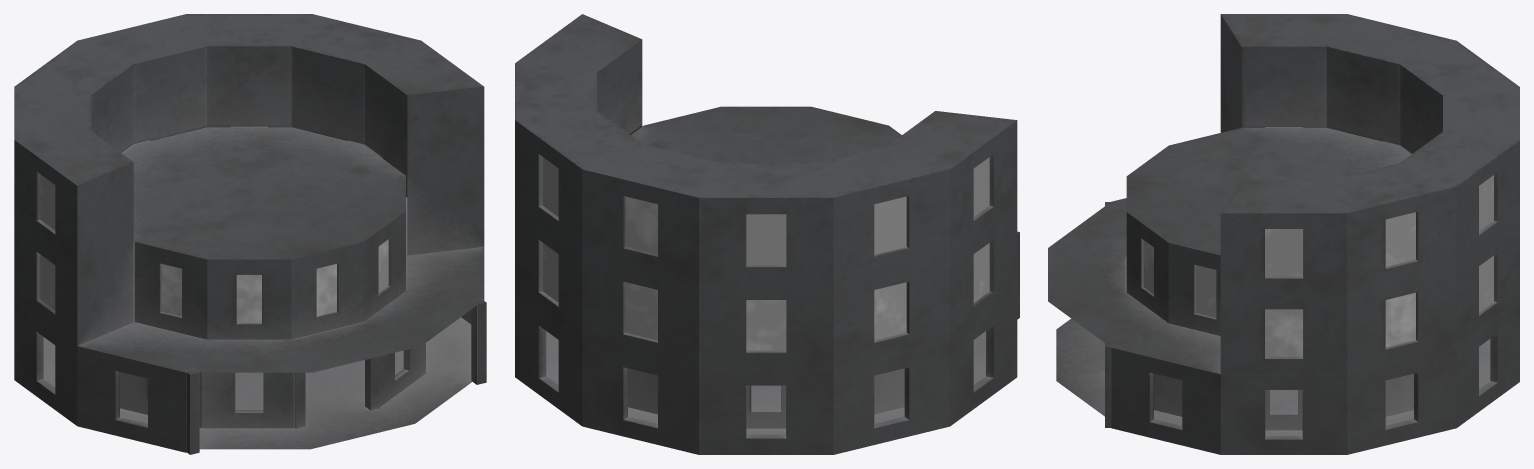
Rendered from building_4_2.fbx.
The picture shows the model from 3 angles, left to right: view 1: azimuth 30°, elevation 25°; view 2: azimuth 150°, elevation 25°; view 3: azimuth 270°, elevation 25°; orthographic projection. The views are drawn at different scales.
Parts seen in each view (by area): view 1: building_4; view 2: building_4; view 3: building_4.
Part boxes in pixels (x1,y1,x2,y2): building_4: (14,14,486,454); building_4: (515,14,1019,454); building_4: (1048,14,1519,454).
Bounding box in the file's own units: 21.25 × 12 × 21.25.
Materials: 1 (1 with a texture image).
